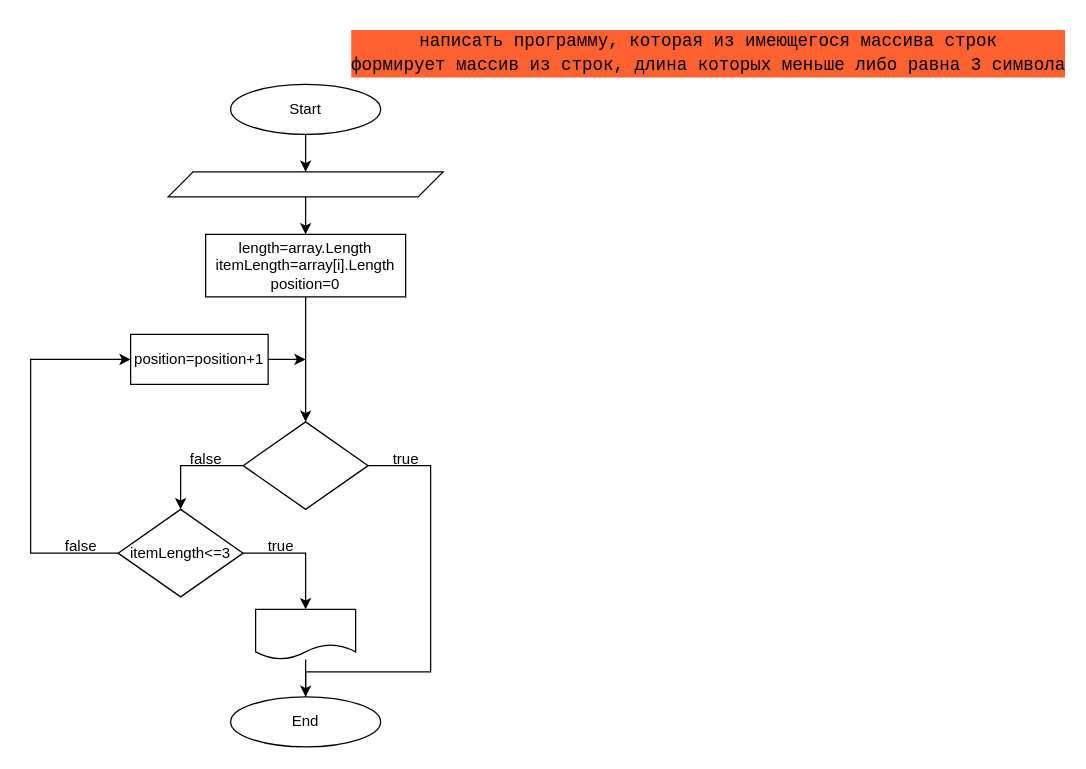
This 1086x769 diagram has some shape labels left out. Here are the shapes that lost their labels. From the top down, the box of each, then its label:
(167, 171, 443, 197): array ={"hello","2","world",":-)"}
(242, 421, 368, 509): position>length
(254, 608, 356, 659): Write(array[i])
